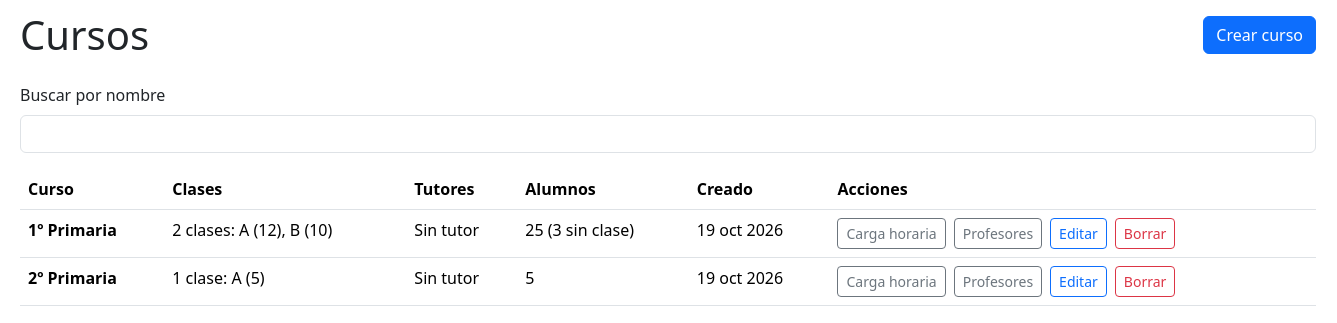
CoursesPage › on a wide screen › students (US14_b) › does not search in the numbers
This screenshot has width=1337, height=323.
Expected: the text "2 clases: A (12), B (10)" is shown, [164,210,406,258]
In the search field: (668, 134) [20,115,1316,153], type "25"
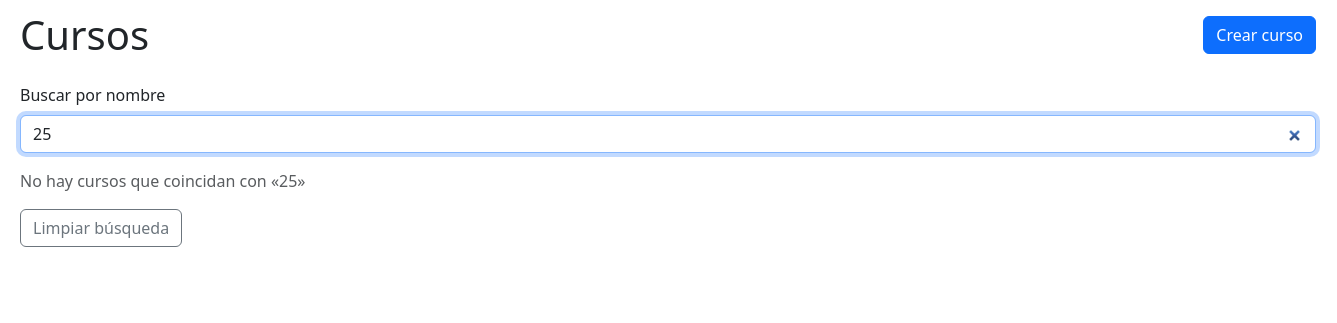
Result: the text "No hay cursos que coincidan con «25»" is shown at [20,170,306,192]
